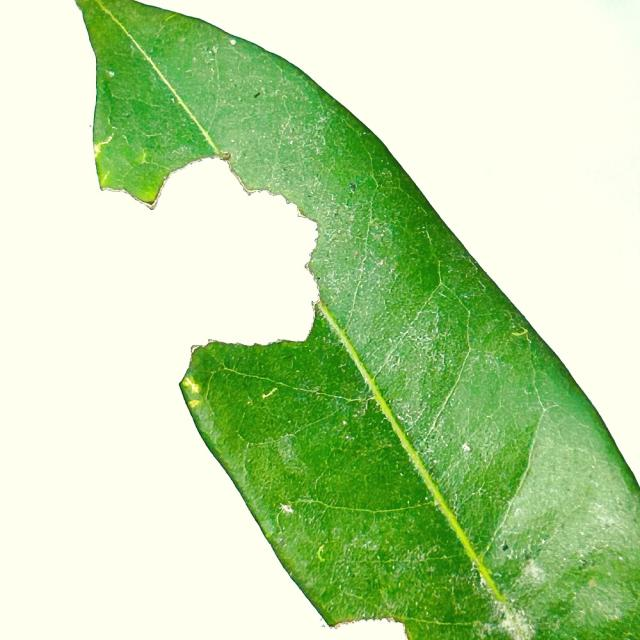Deficiency Leaf: (100, 159, 317, 350)
Lychee: (77, 0, 639, 639)
